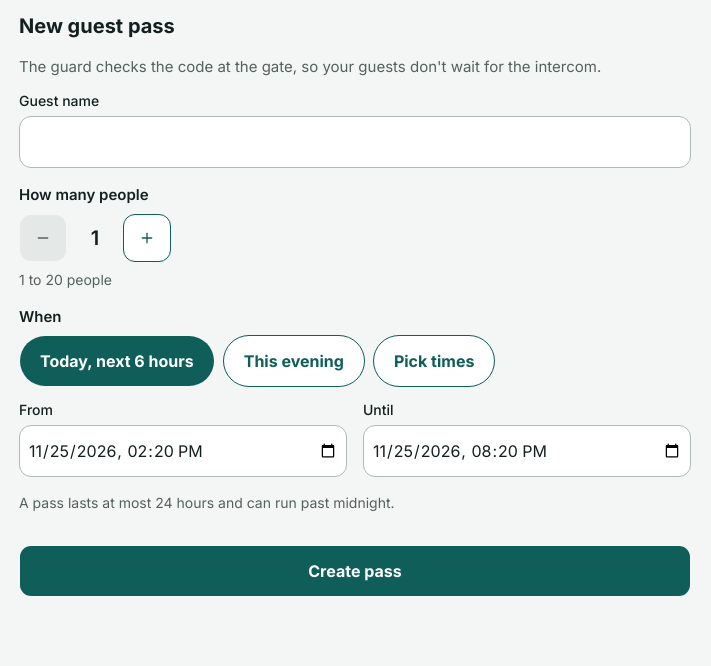
Test: NewGuestPassForm › shows the API's message and keeps what was typed
Type "Rafiq Hasan" into the field labelled "Guest name" at (355, 142), box left=19, top=116, right=691, bottom=168
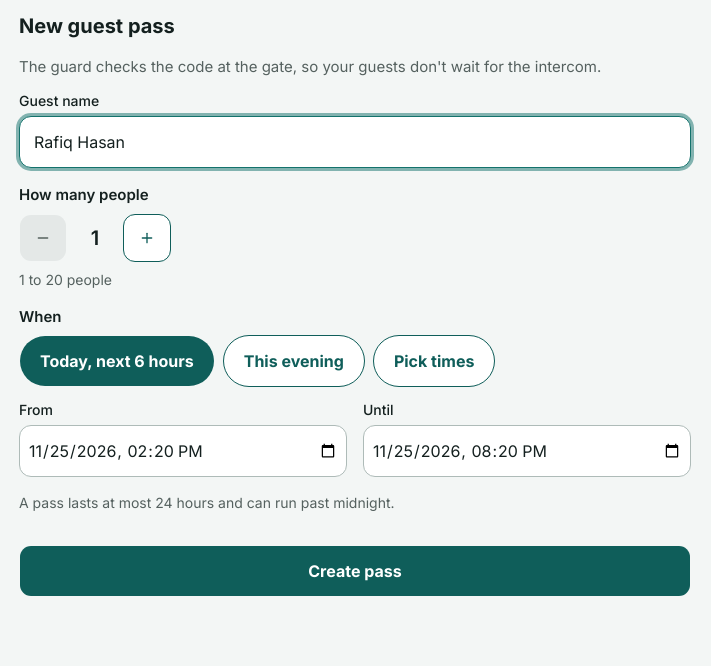
Click the button "Create pass" at (355, 571), box left=19, top=545, right=691, bottom=597
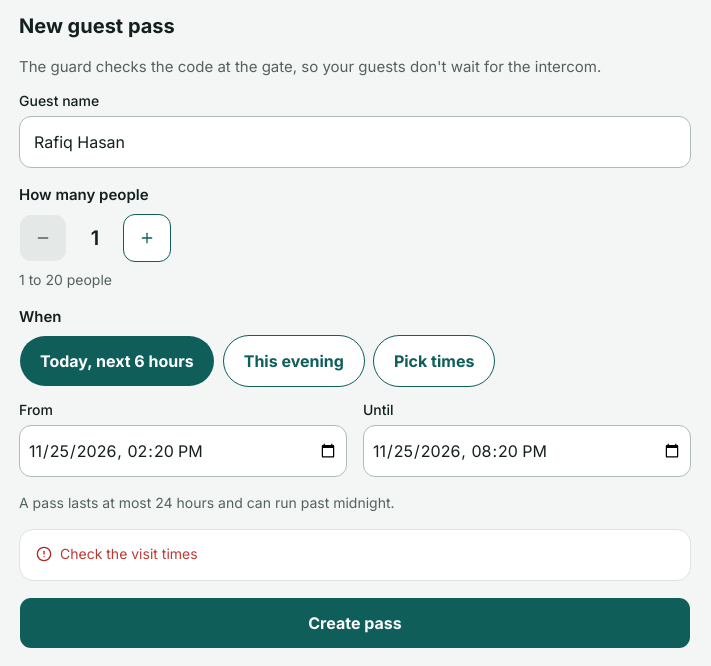
Expected: the button "Create pass" is enabled, left=19, top=597, right=691, bottom=649
Result: the text "Check the visit times" is shown at left=60, top=545, right=198, bottom=562
